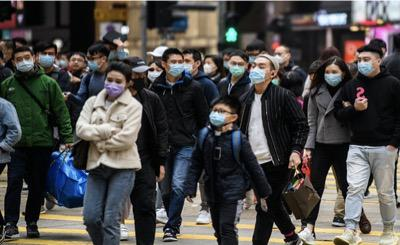with_mask: (103, 75, 125, 99), (248, 62, 268, 85), (129, 71, 148, 93), (208, 106, 227, 127), (357, 54, 375, 76), (15, 53, 34, 73), (324, 67, 342, 88), (167, 59, 184, 78), (84, 55, 101, 73), (38, 50, 55, 67), (228, 61, 246, 77), (146, 66, 162, 84), (106, 44, 118, 61), (183, 58, 195, 74), (273, 51, 285, 65), (202, 60, 214, 74), (246, 52, 257, 63), (59, 57, 68, 68), (223, 55, 230, 69)
without_mask: (68, 57, 84, 71)
